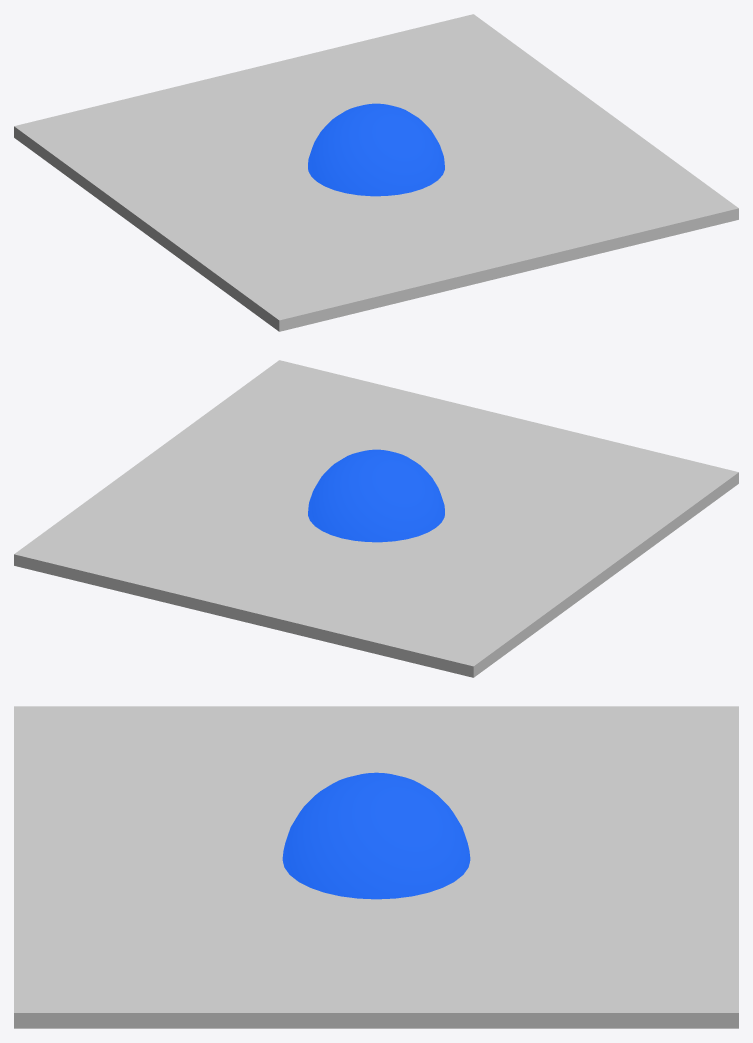
File: 2.20 black hole.gltf
3 views of the same model, one above another, from view 1: azimuth 30°, elevation 25°; view 2: azimuth 150°, elevation 25°; view 3: azimuth 270°, elevation 25° (orthographic). The views are drawn at different scales.
Visible parts, largest first — view 1: Cube, Sphere; view 2: Cube, Sphere; view 3: Cube, Sphere.
Part boxes in pixels (<box>): Cube: <box>14,14,738,331</box>; Sphere: <box>308,103,444,196</box>; Cube: <box>14,360,738,677</box>; Sphere: <box>308,449,444,542</box>; Cube: <box>14,706,738,1028</box>; Sphere: <box>282,772,470,899</box>.
Size of the model in its own units: 7.64 by 2 by 7.64.
